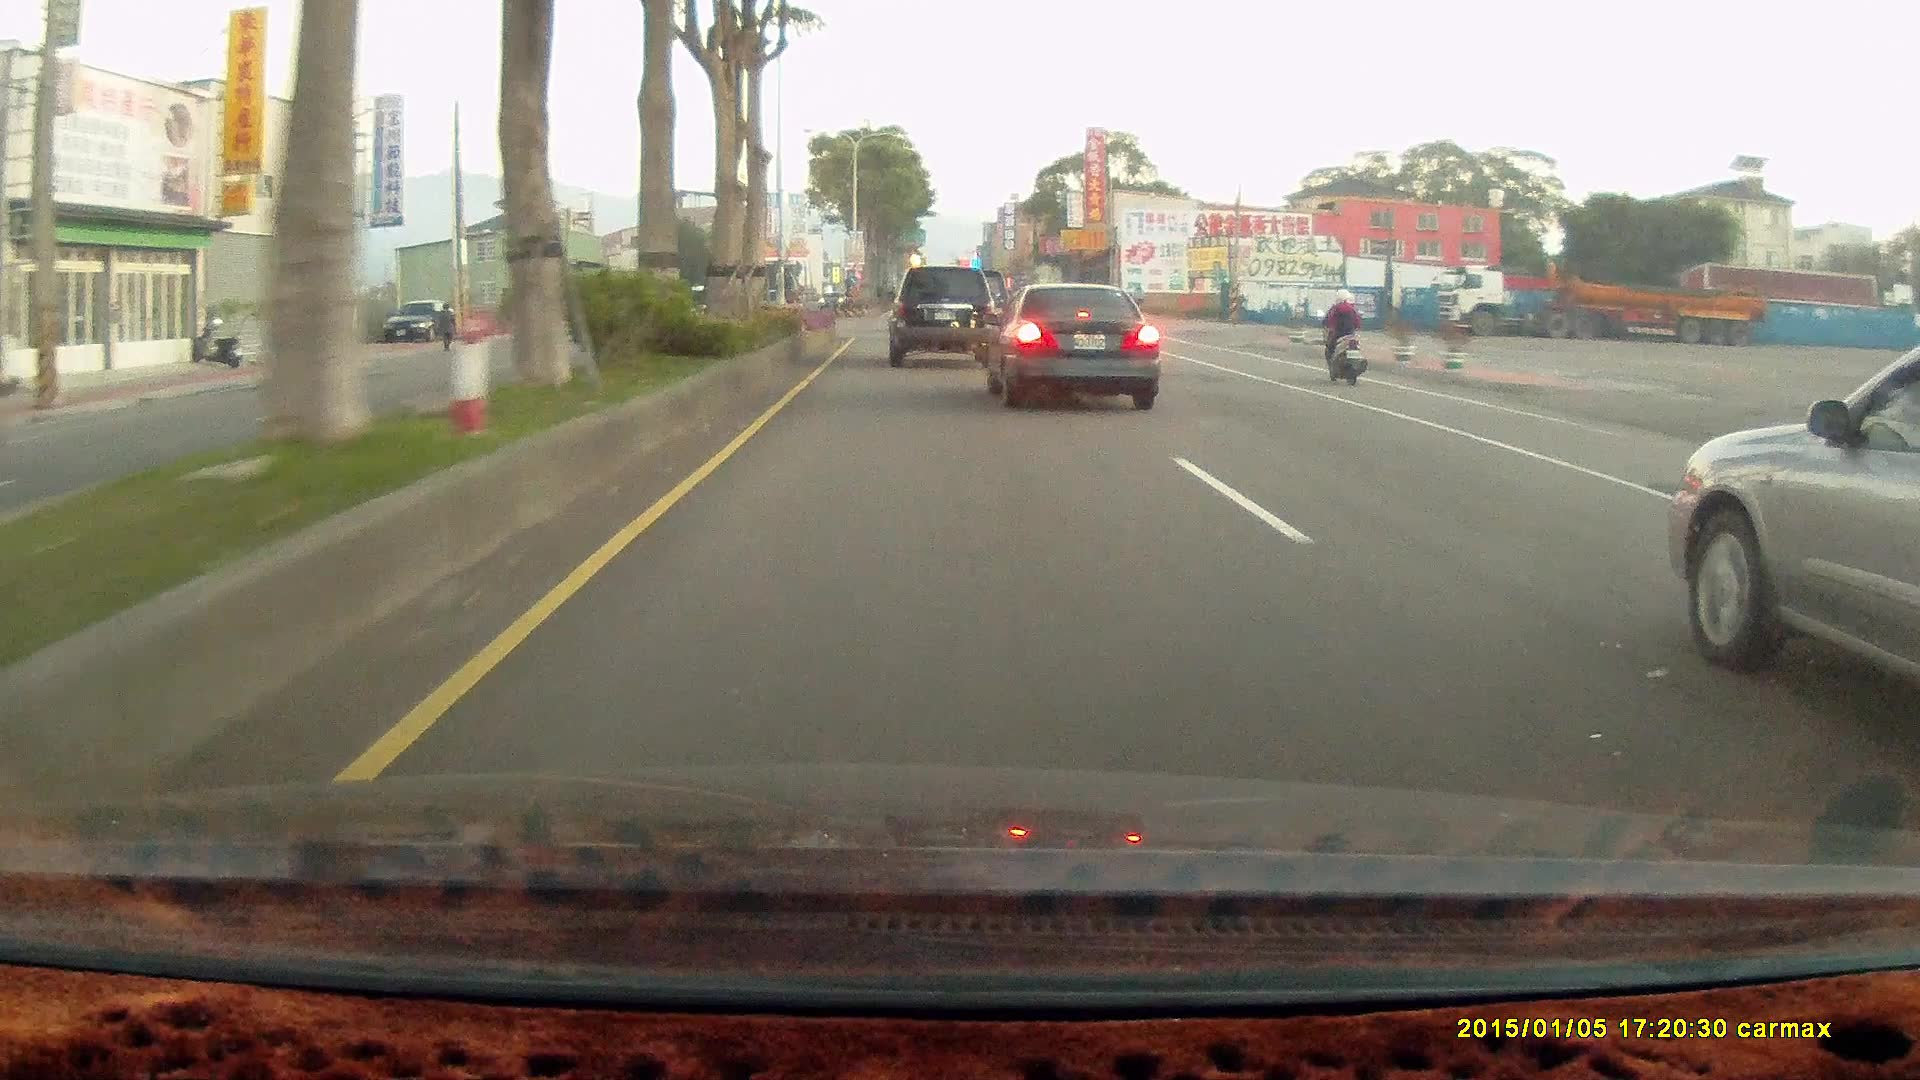pedestrian: (436, 299, 456, 352)
rider: (1309, 282, 1376, 390), (1314, 285, 1369, 383)
vehicle: (1664, 332, 1920, 724), (1429, 266, 1763, 346), (983, 283, 1161, 413), (984, 284, 1158, 407), (881, 262, 1000, 366), (882, 265, 996, 366), (382, 297, 455, 347)
